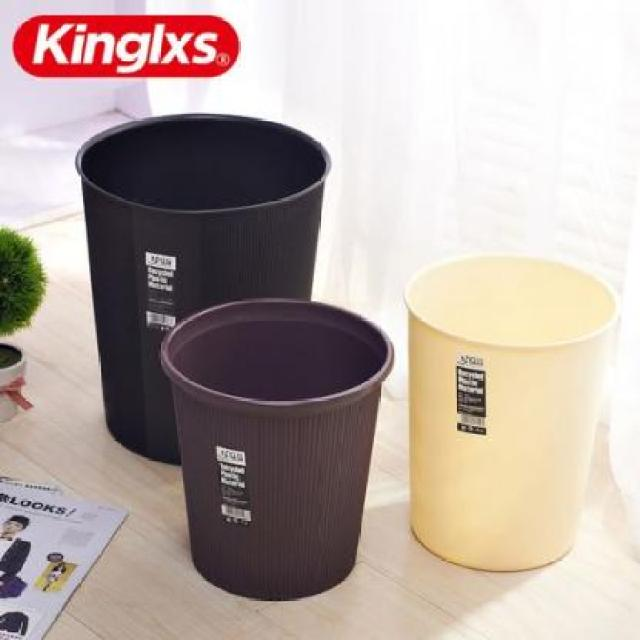dustbin: (72, 109, 335, 469), (156, 292, 398, 604), (401, 246, 624, 573)
